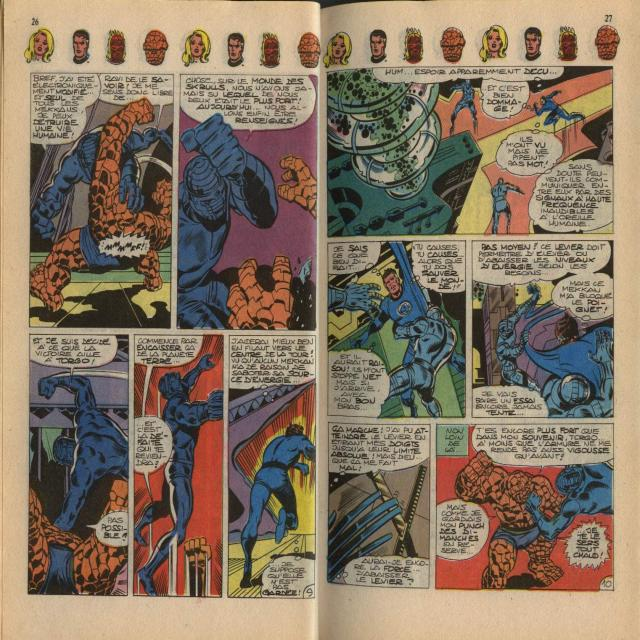comic_panel: (325, 65, 616, 240), (28, 71, 176, 331), (175, 71, 319, 333), (434, 422, 616, 592), (26, 332, 132, 598), (471, 237, 616, 420), (326, 239, 468, 419), (132, 332, 225, 600), (226, 333, 318, 601), (326, 420, 432, 591)
